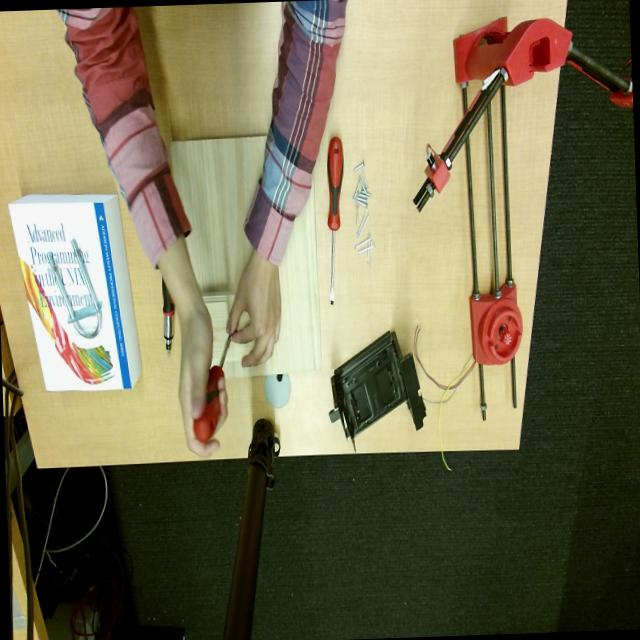screwdriver: (193, 334, 231, 442), (327, 137, 343, 304), (161, 279, 174, 354)
